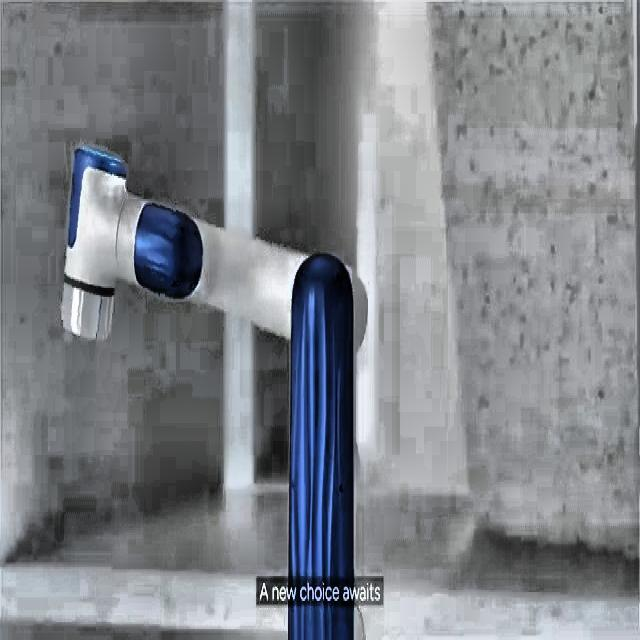robot: (60, 143, 361, 636)
